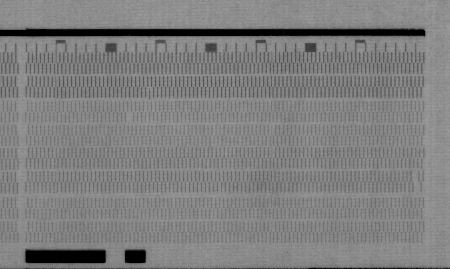Broken hole: (410, 170, 424, 193), (124, 111, 136, 125)
Oblique printing: (144, 86, 155, 102)
